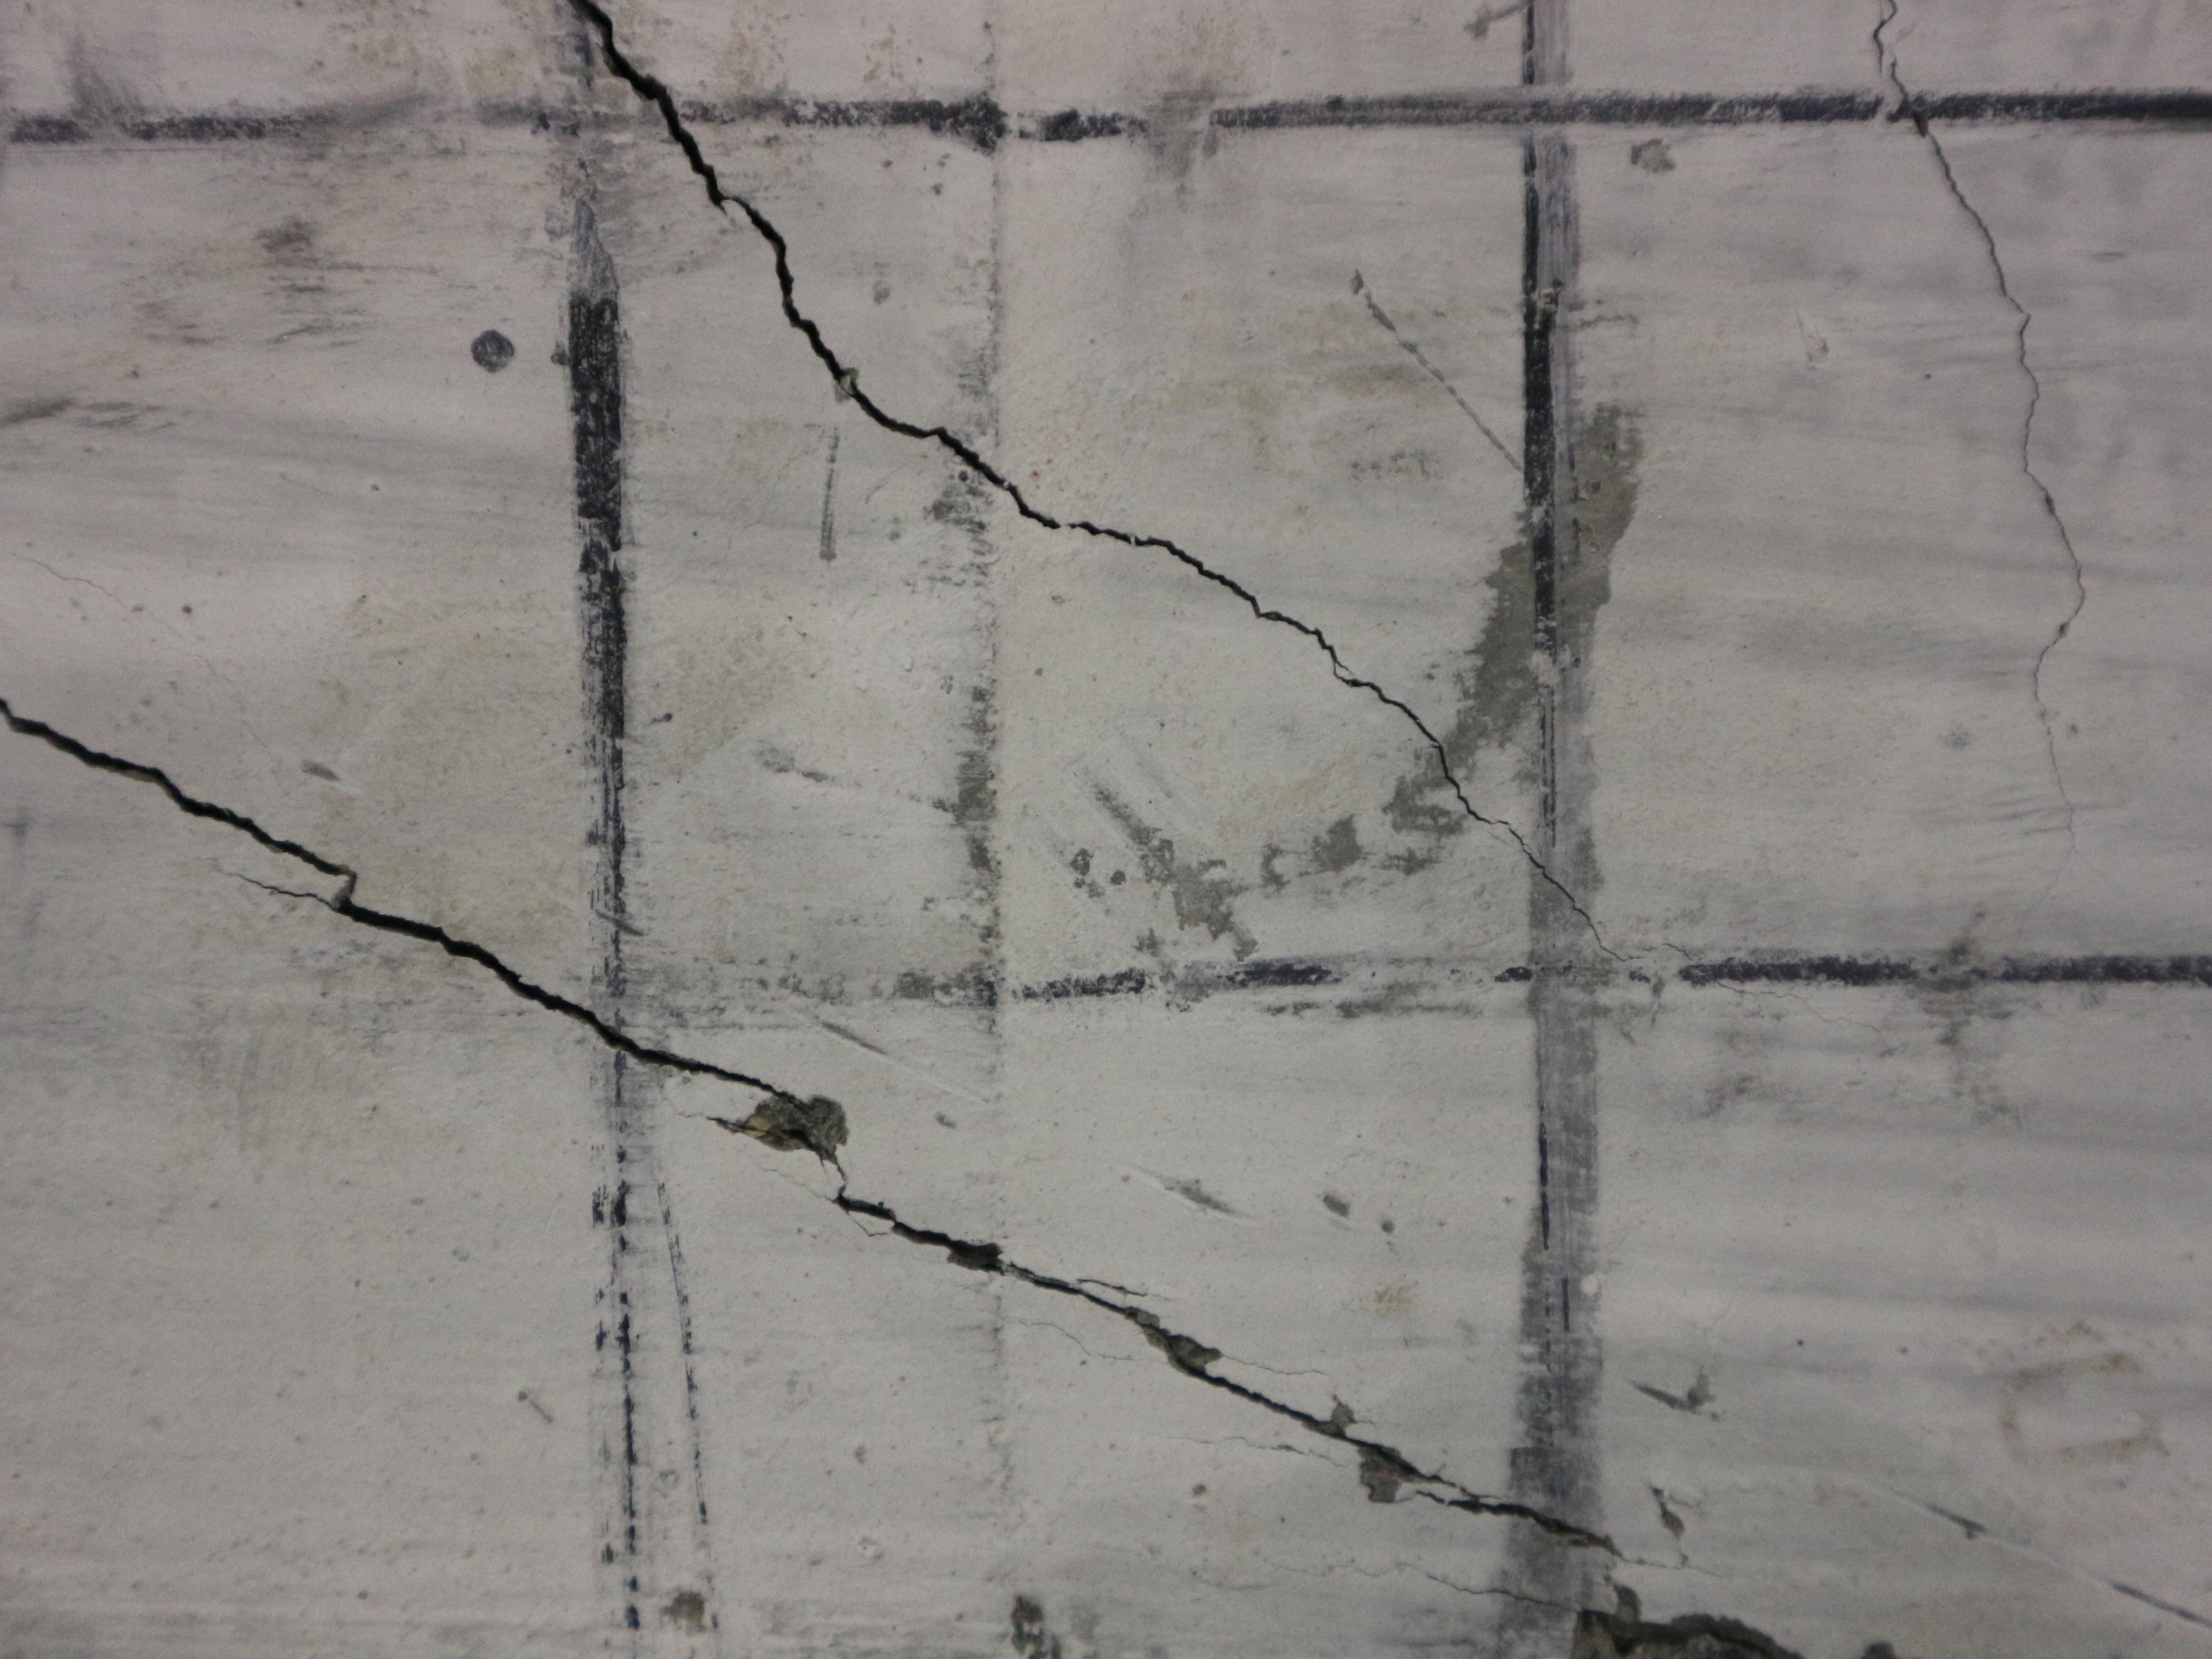crack: (0, 699, 1723, 1577), (577, 0, 1625, 967), (1871, 0, 2088, 938), (1660, 941, 1885, 1035), (1188, 1556, 1569, 1610)
spall: (1571, 1601, 1817, 1659), (707, 1084, 855, 1159)
